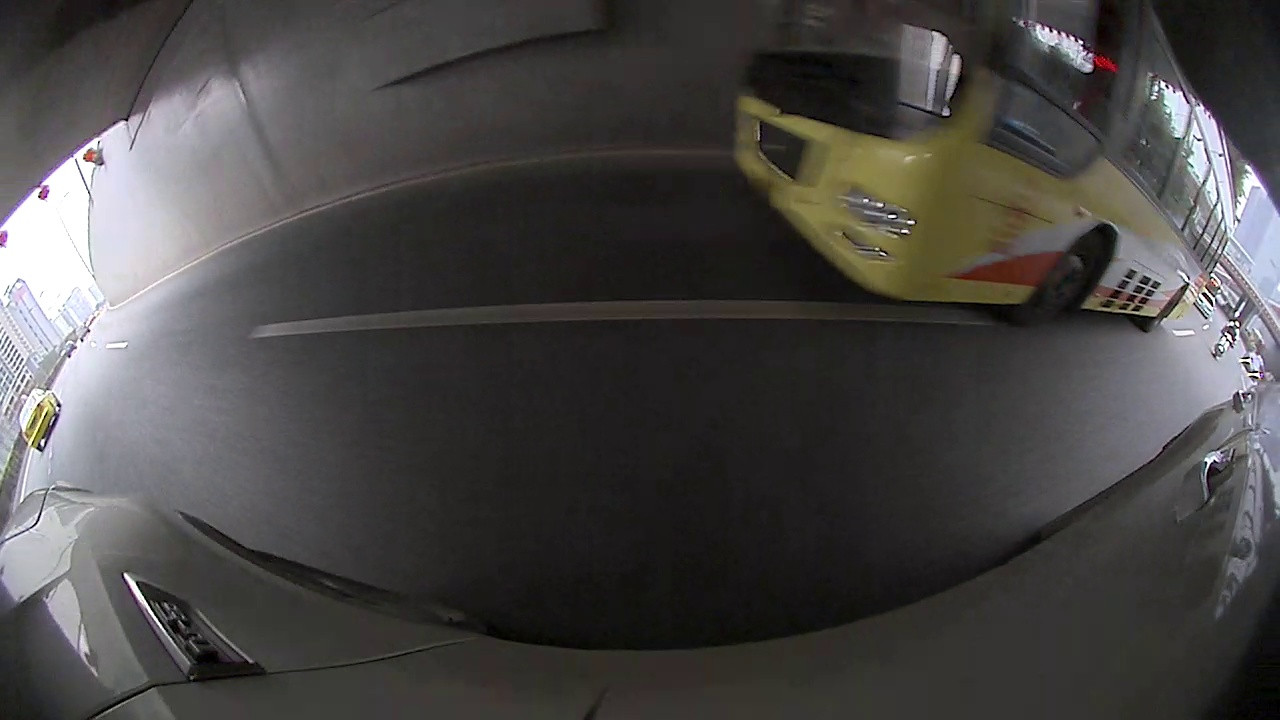bus: (730, 1, 1231, 336)
car: (16, 385, 66, 452)
front: (1001, 231, 1118, 332)
rear: (1138, 285, 1189, 336)
rider: (1212, 320, 1242, 357)
